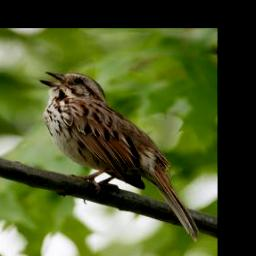Sparrow: (36, 68, 200, 241)
